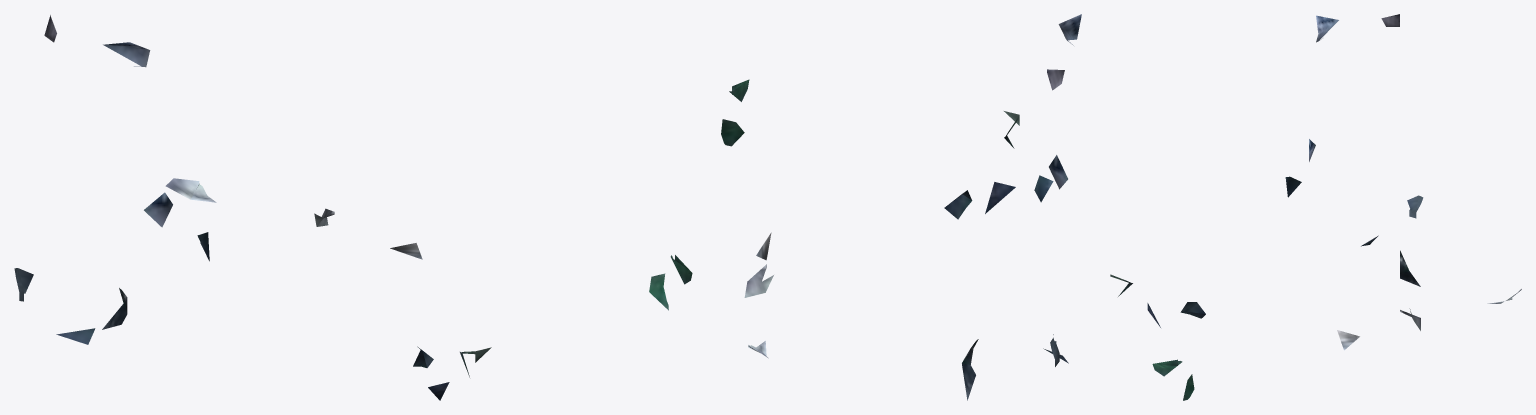
3 views of the same model, side by side, from view 1: azimuth 30°, elevation 25°; view 2: azimuth 150°, elevation 25°; view 3: azimuth 270°, elevation 25° (orthographic). The views are drawn at different scales.
Visible parts, largest first — view 1: 30436272704361607725_1; view 2: 30436272704361607725_1; view 3: 30436272704361607725_1.
Boxes of the visible parts, x1=… form: 30436272704361607725_1: x1=14, y1=15, x2=692, y2=400; 30436272704361607725_1: x1=721, y1=14, x2=1081, y2=400; 30436272704361607725_1: x1=1110, y1=14, x2=1521, y2=400.
Bounding box in the file's own units: 27.31 × 18.64 × 27.15.
1 material, 1 textured.
